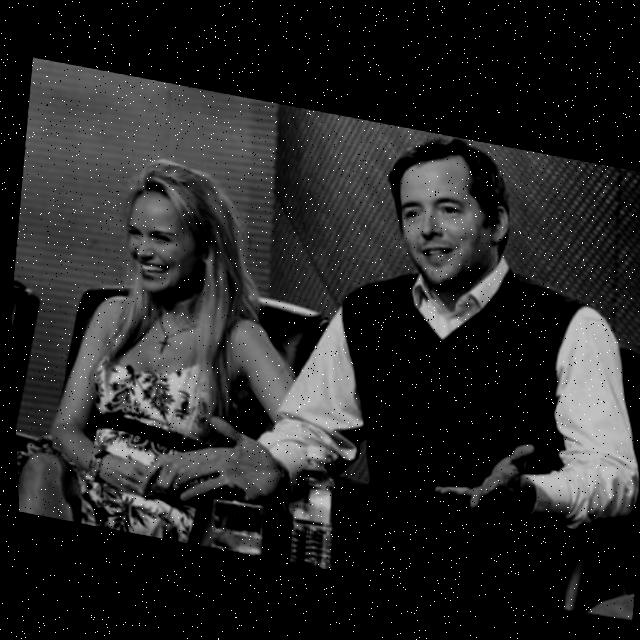face: (379, 126, 513, 295), (117, 161, 228, 308)
